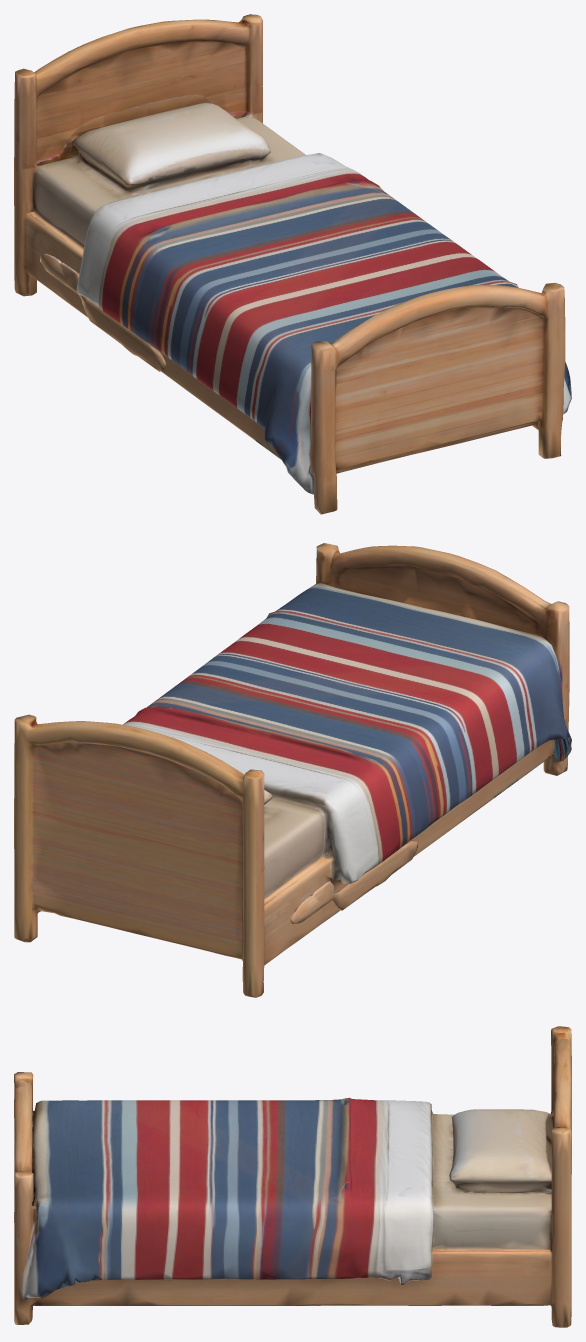
Rendered from SunlitBed.glb.
The picture shows the model from 3 angles, top to bottom: view 1: azimuth 30°, elevation 25°; view 2: azimuth 150°, elevation 25°; view 3: azimuth 270°, elevation 25°; orthographic projection. The views are drawn at different scales.
Parts seen in each view (by area): view 1: Mesh_0; view 2: Mesh_0; view 3: Mesh_0.
Boxes of the visible parts, x1,y1,x2,y2 form: Mesh_0: [14, 14, 571, 514]; Mesh_0: [14, 543, 571, 997]; Mesh_0: [14, 1026, 571, 1327].
Size of the model in its own units: 1.12 by 0.8366 by 2.
Materials: 1 (1 with a texture image).
